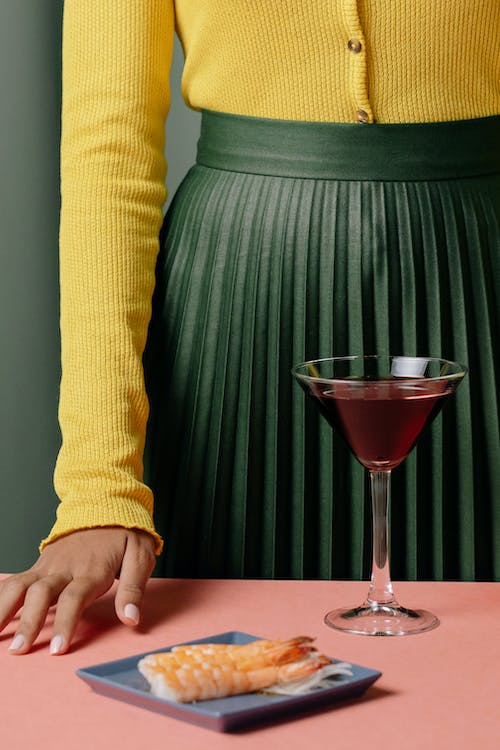alcohol: (291, 354, 466, 638)
